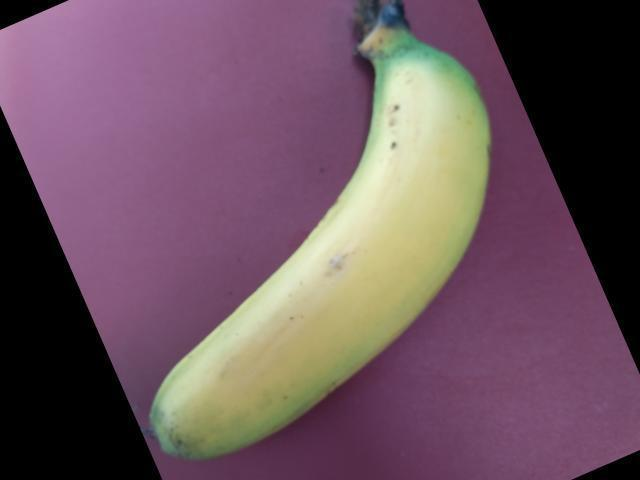freshripe: (87, 65, 522, 479)
